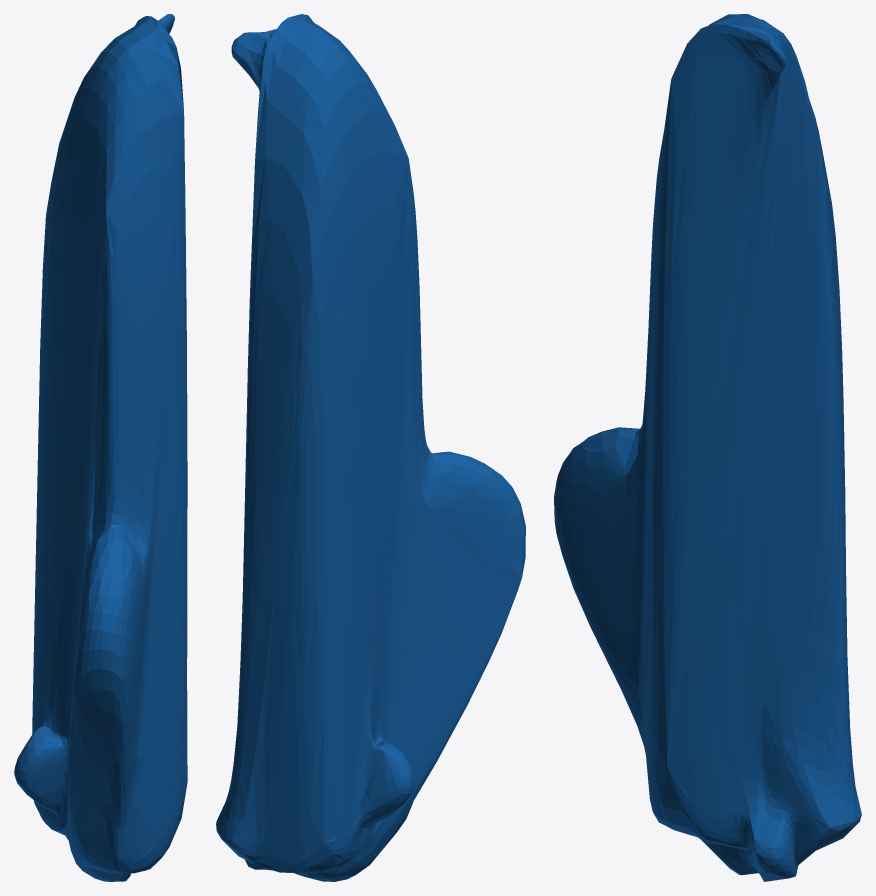
The picture shows the model from 3 angles, left to right: view 1: azimuth 30°, elevation 25°; view 2: azimuth 150°, elevation 25°; view 3: azimuth 270°, elevation 25°; orthographic projection. The views are drawn at different scales.
Visible parts, largest first — view 1: 971_Cube.3924; view 2: 971_Cube.3924; view 3: 971_Cube.3924.
Part boxes in pixels (x1,y1,x2,y2): 971_Cube.3924: [14, 14, 187, 881]; 971_Cube.3924: [216, 14, 525, 881]; 971_Cube.3924: [554, 14, 861, 881].
Size of the model in its own units: 2.94 by 12.22 by 3.9.
